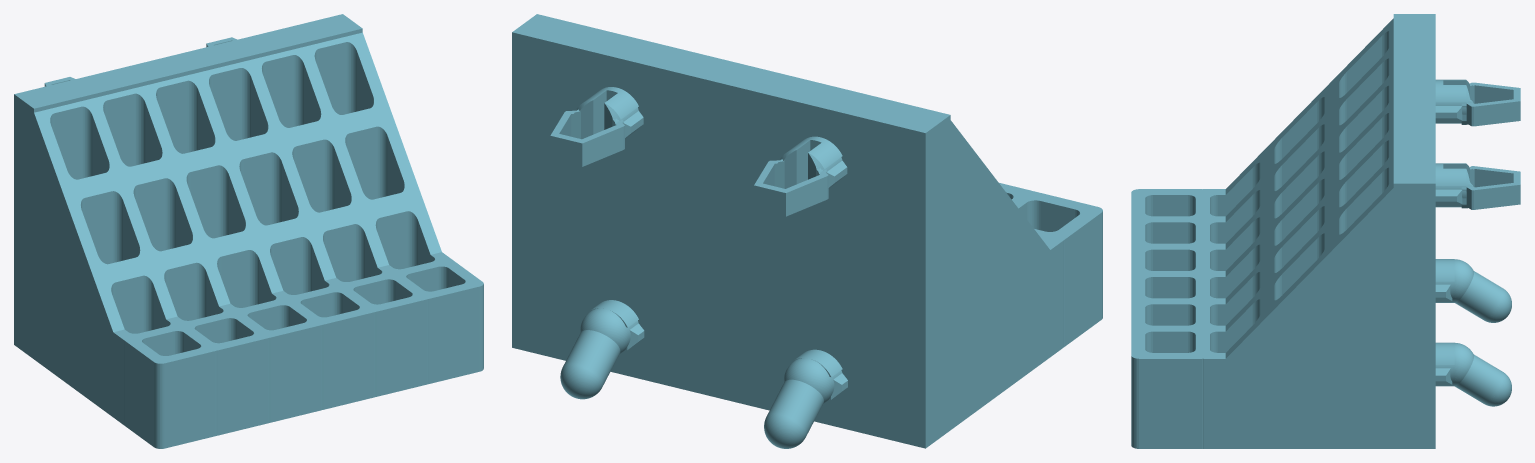
Rendered from part-p01-24__current-mounts-flat-top-v2__fit-pf02c9-hoop5__print.glb.
3 renders of one model, left to right at view 1: azimuth 30°, elevation 25°; view 2: azimuth 150°, elevation 25°; view 3: azimuth 270°, elevation 25°, orthographic. The views are drawn at different scales.
Parts seen in each view (by area): view 1: print.stl; view 2: print.stl; view 3: print.stl.
Part boxes in pixels (left/top/right/bottom): print.stl: left=14, top=14, right=483, bottom=448; print.stl: left=512, top=14, right=1102, bottom=448; print.stl: left=1131, top=14, right=1520, bottom=448.
Bounding box in the file's own units: 0.0516 × 0.0376 × 0.05.
